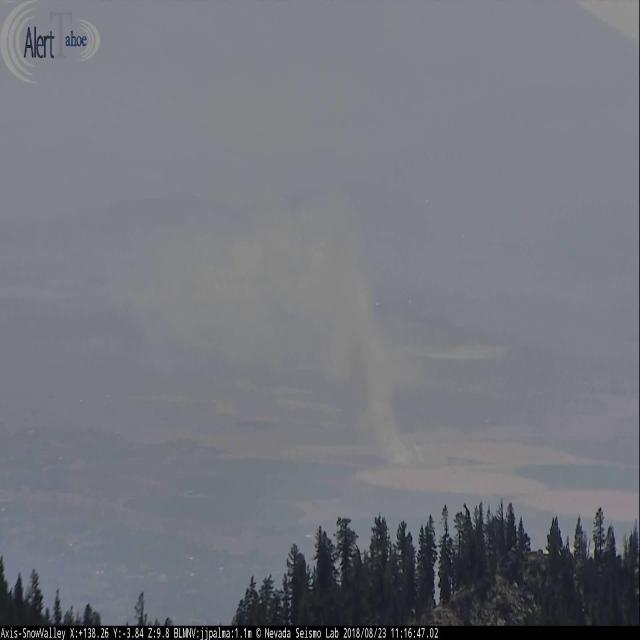smoke: (142, 201, 424, 473)
